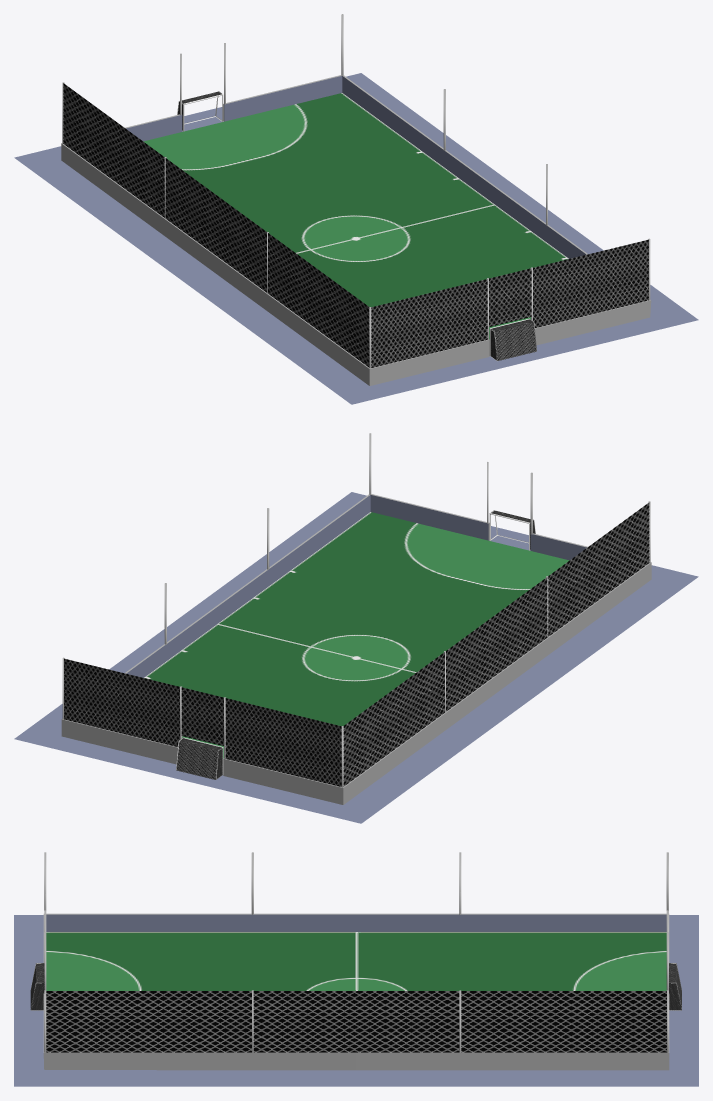
The model's file is sceneR.glb.
The picture shows the model from 3 angles, top to bottom: view 1: azimuth 30°, elevation 25°; view 2: azimuth 150°, elevation 25°; view 3: azimuth 270°, elevation 25°; orthographic projection.
Visible parts, largest first — view 1: Mesh; view 2: Mesh; view 3: Mesh.
Part boxes in pixels (x1,y1,x2,y2): Mesh: (14,14,698,404); Mesh: (14,433,698,823); Mesh: (14,852,698,1086).
Bounding box in the file's own units: 27.5 × 5.9 × 46.3.
Materials: 7 (5 with a texture image).
